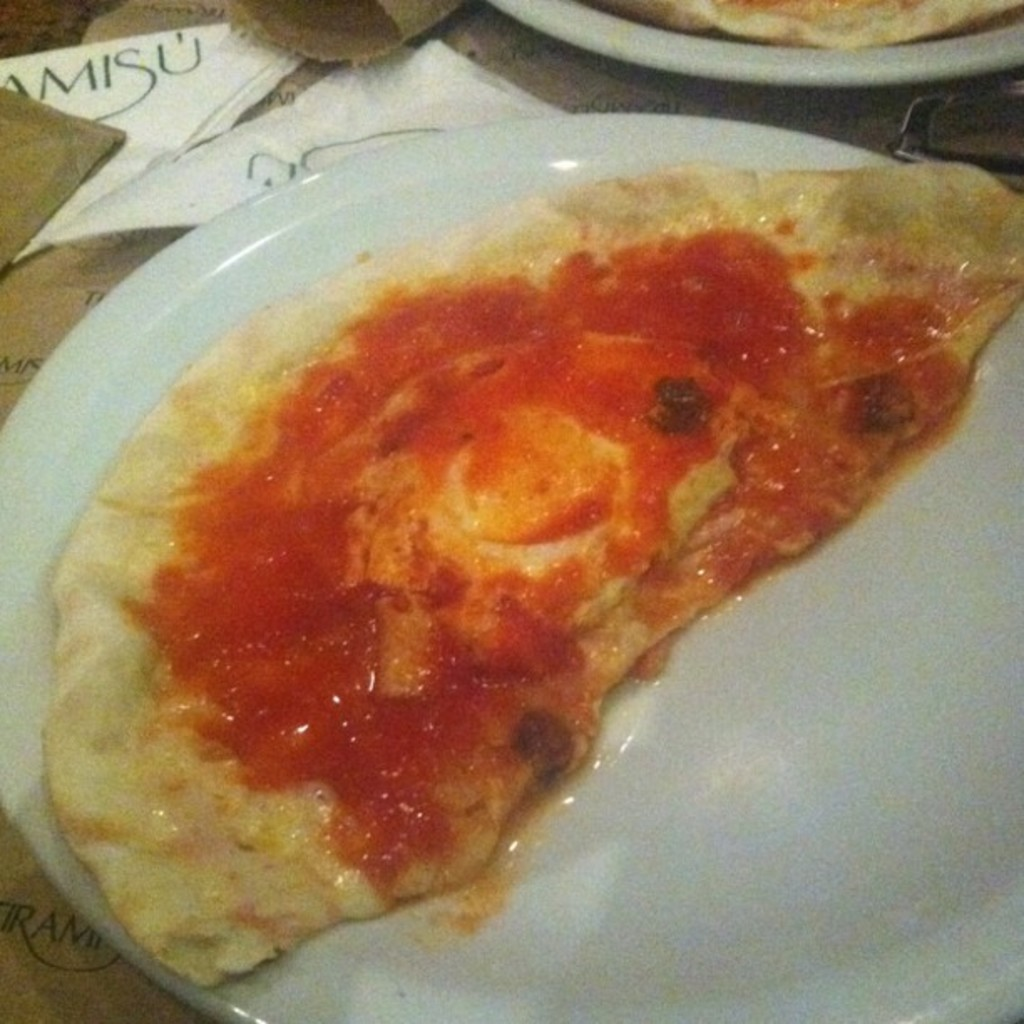Pizza: (25, 97, 1018, 985)
